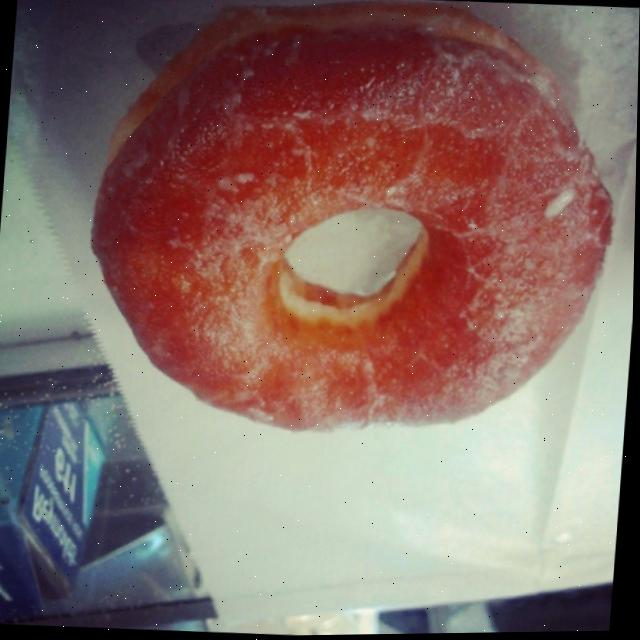炸货点心: (60, 0, 637, 473)
